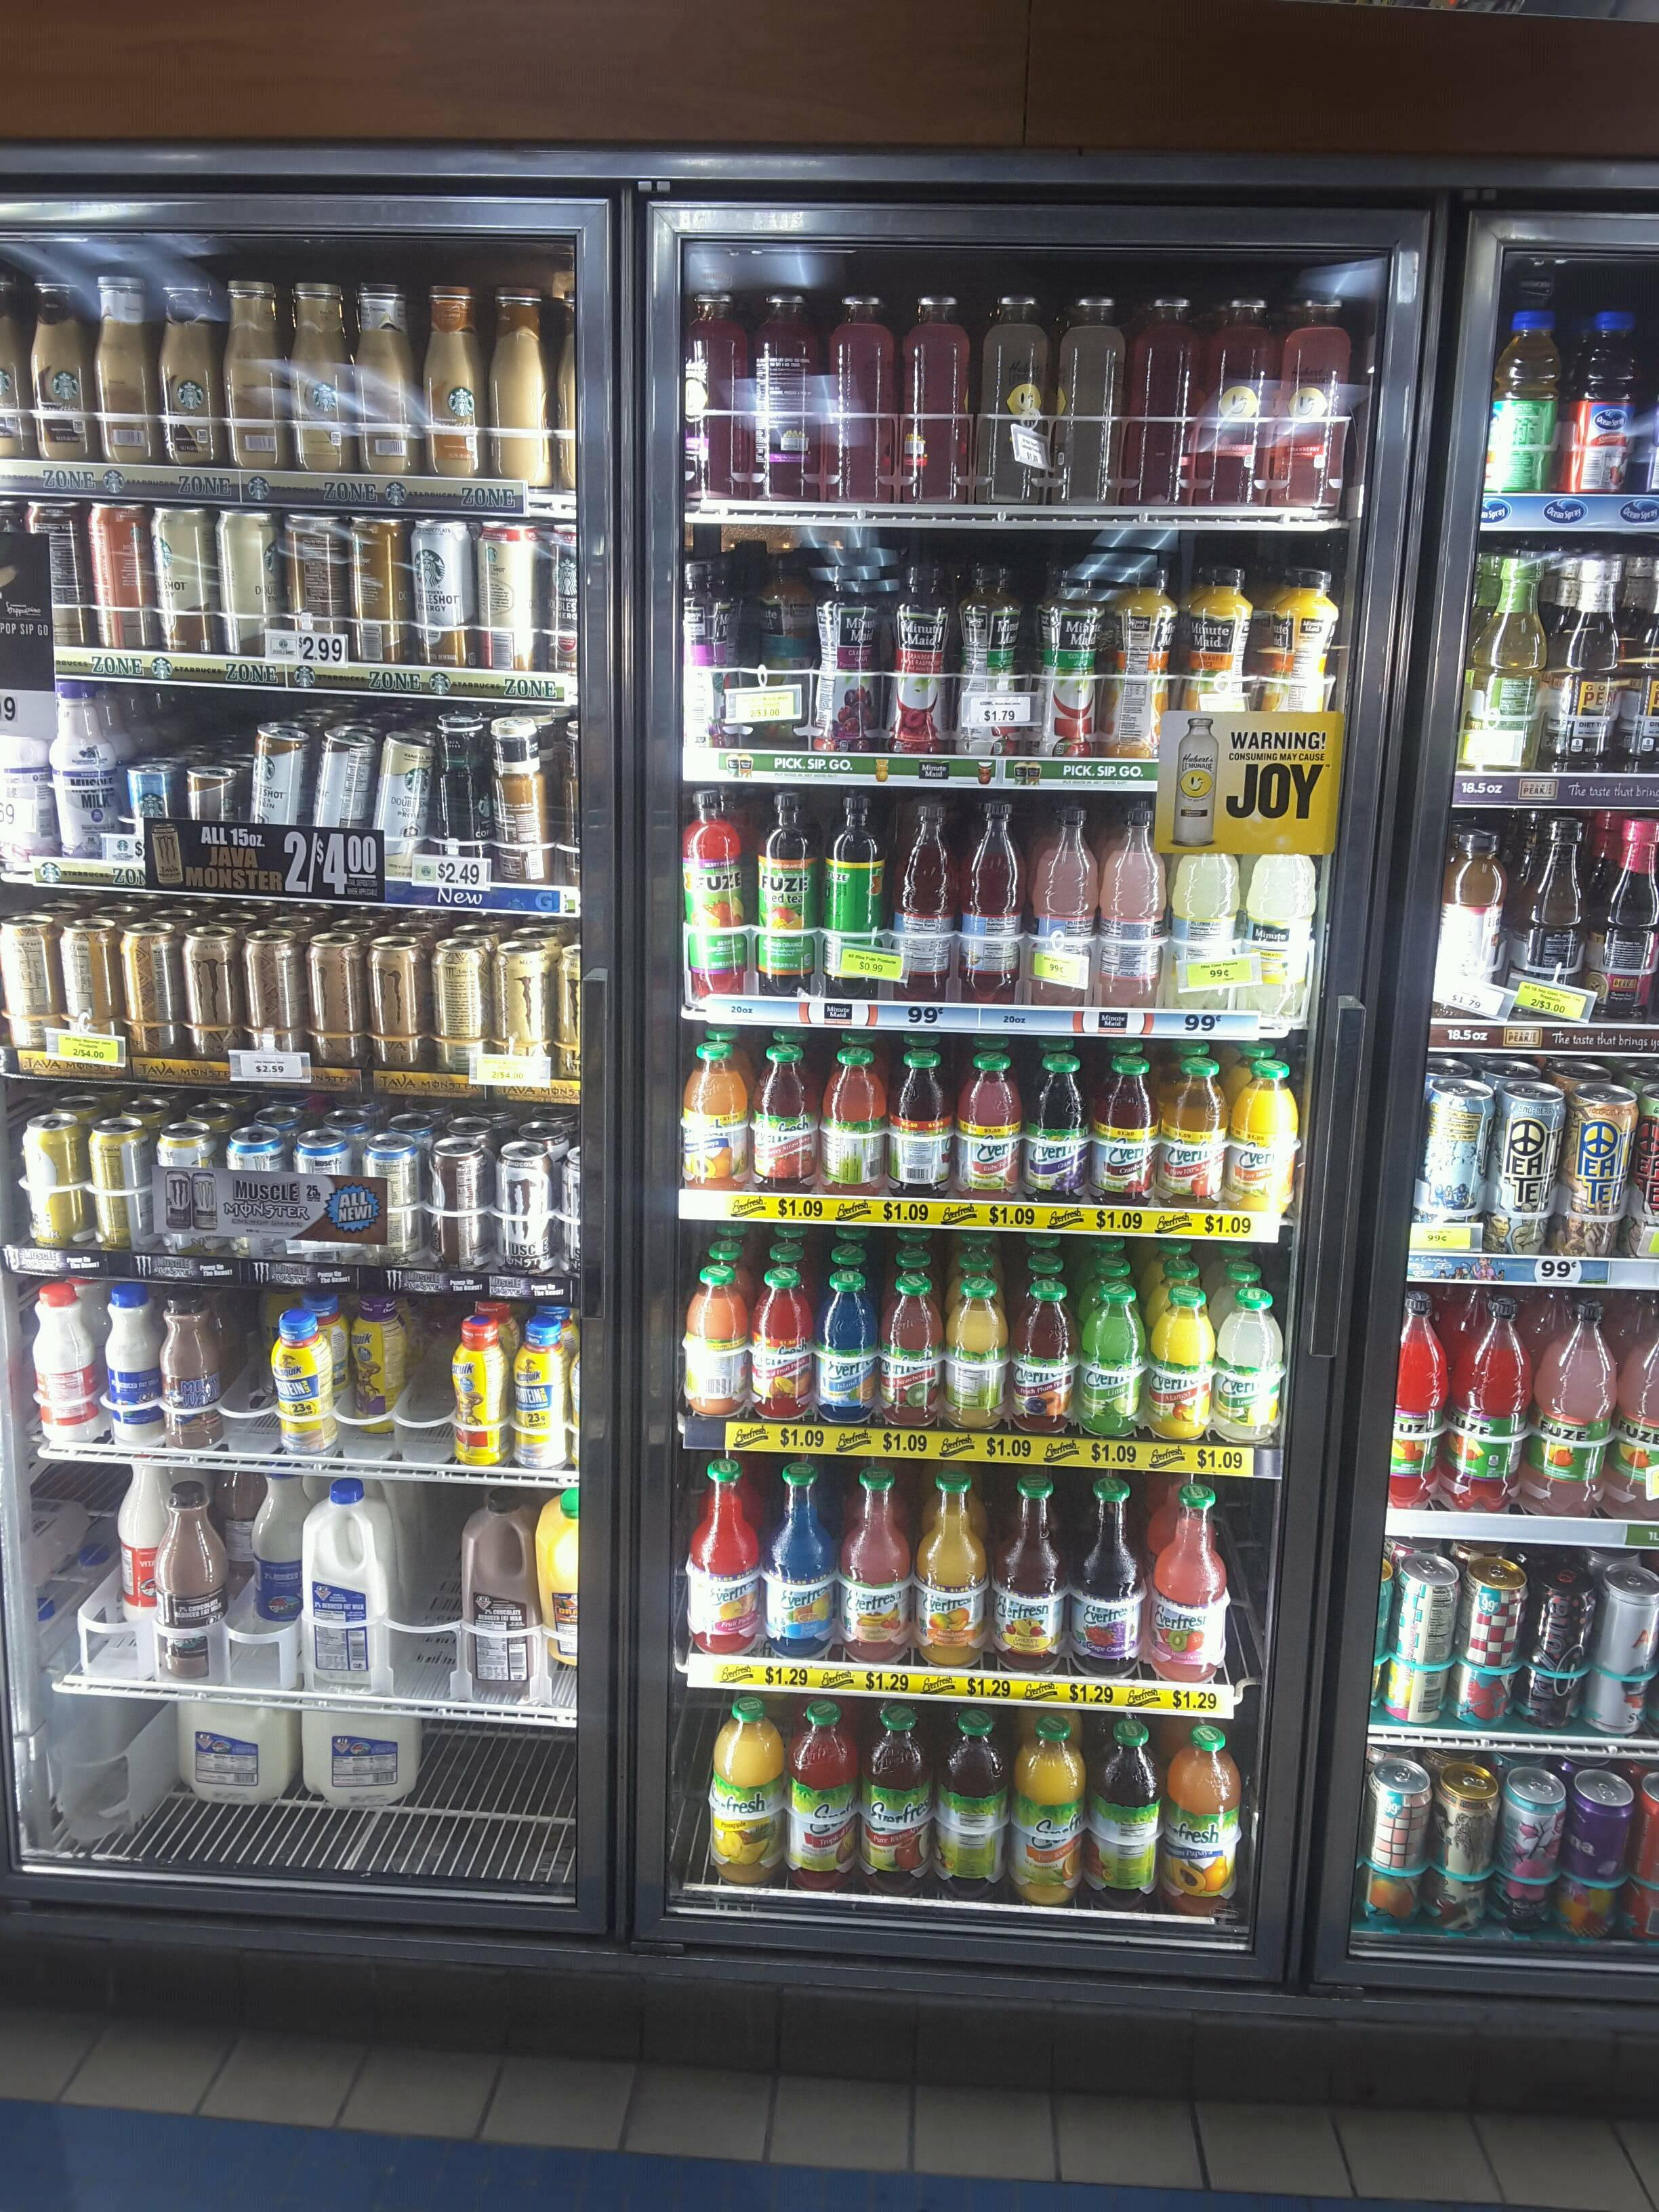empty: (427, 1726, 568, 1878), (385, 1498, 451, 1696), (70, 1703, 119, 1843), (411, 1305, 448, 1456)
misalignment: (253, 725, 436, 885), (167, 1710, 416, 1813), (230, 1292, 331, 1460), (113, 1463, 176, 1622), (253, 1470, 310, 1625)
